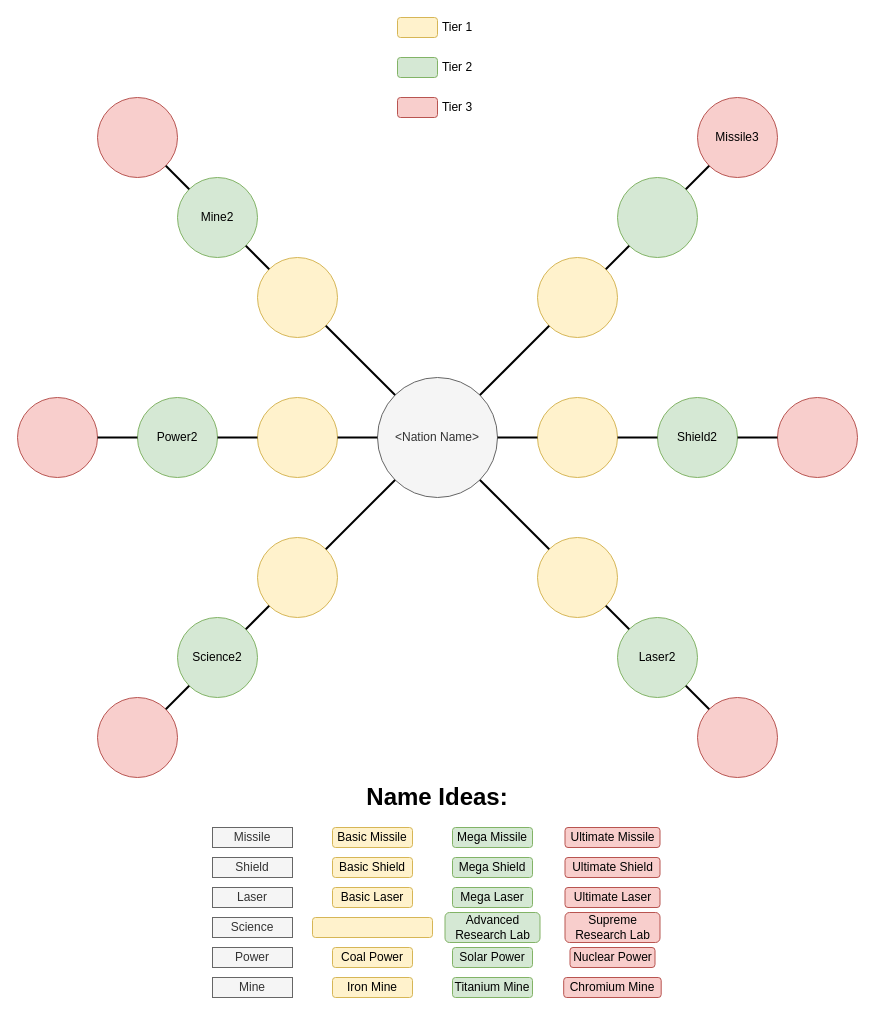
This 875x1015 diagram has some shape labels left out. Here are the shapes that lost their labels. From the top down, the centre of each, then its label:
the point at 137,137: Mine3
the point at 657,217: Missile2
the point at 297,297: Mine1
the point at 577,297: Missile1
the point at 57,437: Power3
the point at 297,437: Power1
the point at 577,437: Shield1
the point at 817,437: Shield3
the point at 297,577: Science1
the point at 577,577: Laser1
the point at 137,737: Science3
the point at 737,737: Laser3
the point at 372,927: Basic Research Lab
